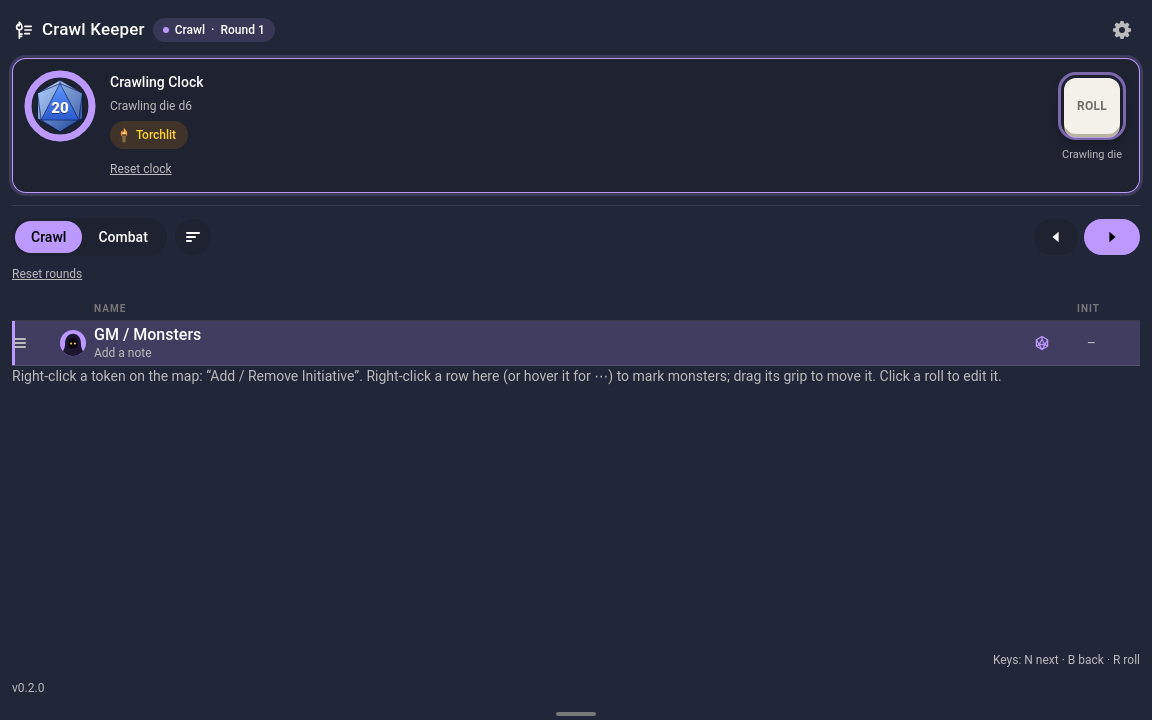
Test: Tracker (GM) › the crawl card › clock: rolling takes the die off the clock; players see the clock unless hidden
Click the button with aria-label "Roll d6".
click(1092, 106)  # box [1064, 78, 1120, 134]
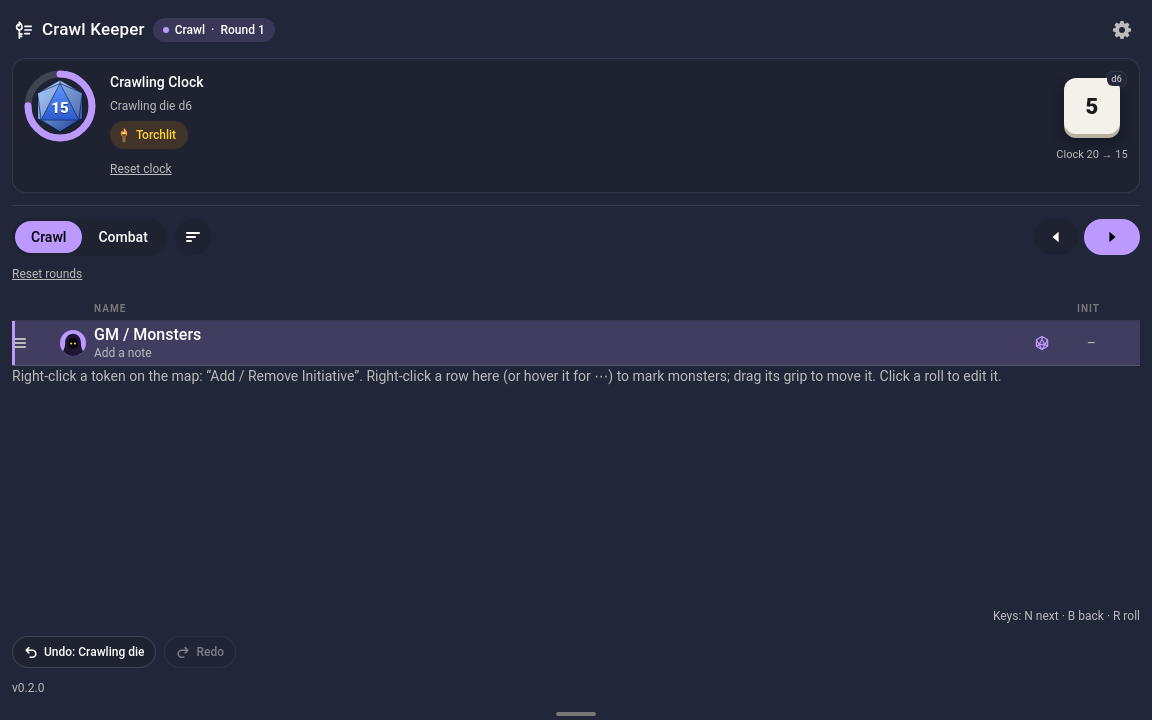
Expected: the message named "Last roll" reads "Clock 20 → 15", [1056, 148, 1128, 161]
